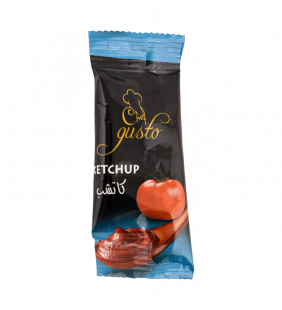GUSTO: (82, 25, 200, 285)
